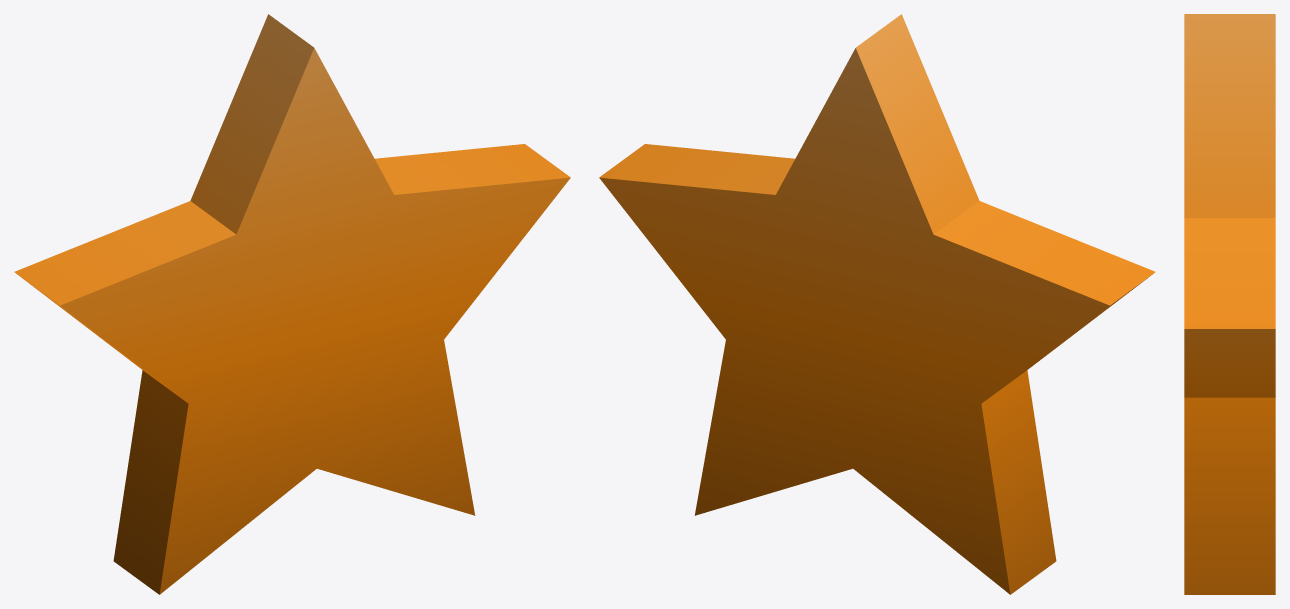
File: Collectible_Star_01.glb
The picture shows the model from 3 angles, left to right: view 1: azimuth 30°, elevation 25°; view 2: azimuth 150°, elevation 25°; view 3: azimuth 270°, elevation 25°; orthographic projection.
Visible parts, largest first — view 1: Collectible_Star_01; view 2: Collectible_Star_01; view 3: Collectible_Star_01.
Part boxes in pixels (x1,y1,x2,y2): Collectible_Star_01: (14, 14, 570, 594); Collectible_Star_01: (599, 14, 1155, 594); Collectible_Star_01: (1184, 14, 1275, 594).
Bounding box in the file's own units: 0.7518 × 0.7165 × 0.1173.
Materials: 1 (1 with a texture image).
